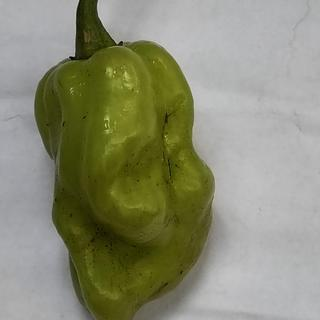Defect: (84, 225, 116, 257)
Fly-bites: (56, 115, 72, 133), (63, 205, 77, 224), (175, 263, 188, 278), (80, 110, 92, 123)
striped: (159, 109, 176, 134), (163, 156, 175, 185)
